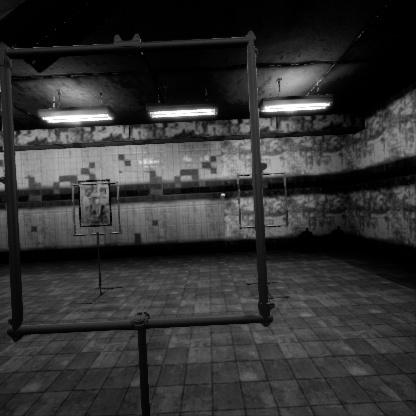gate: (2, 78, 293, 379), (237, 186, 292, 244), (72, 179, 125, 234)
